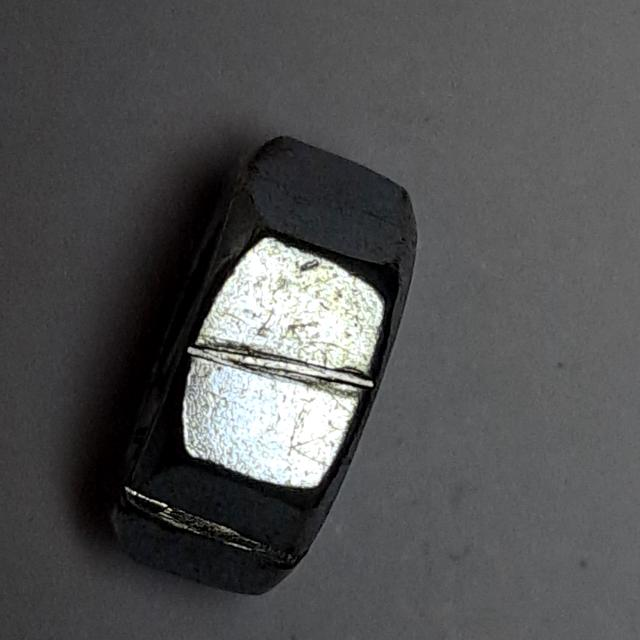Side_Scratches: (96, 124, 436, 606)
